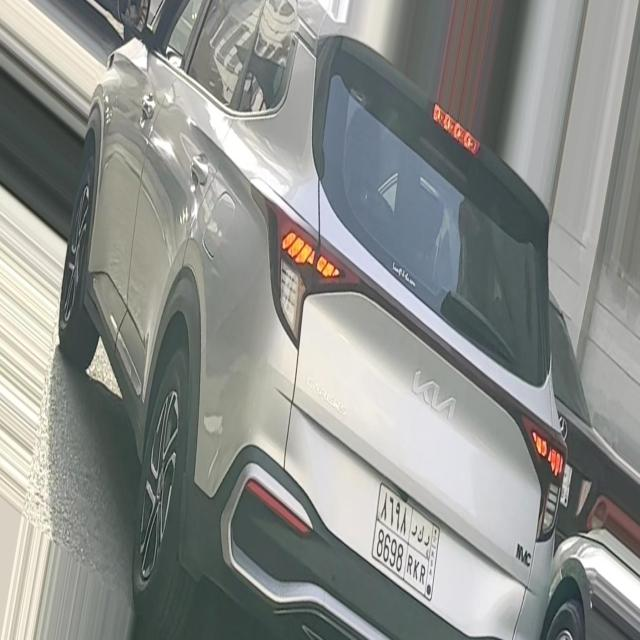Car-plate: (365, 467, 456, 620)
